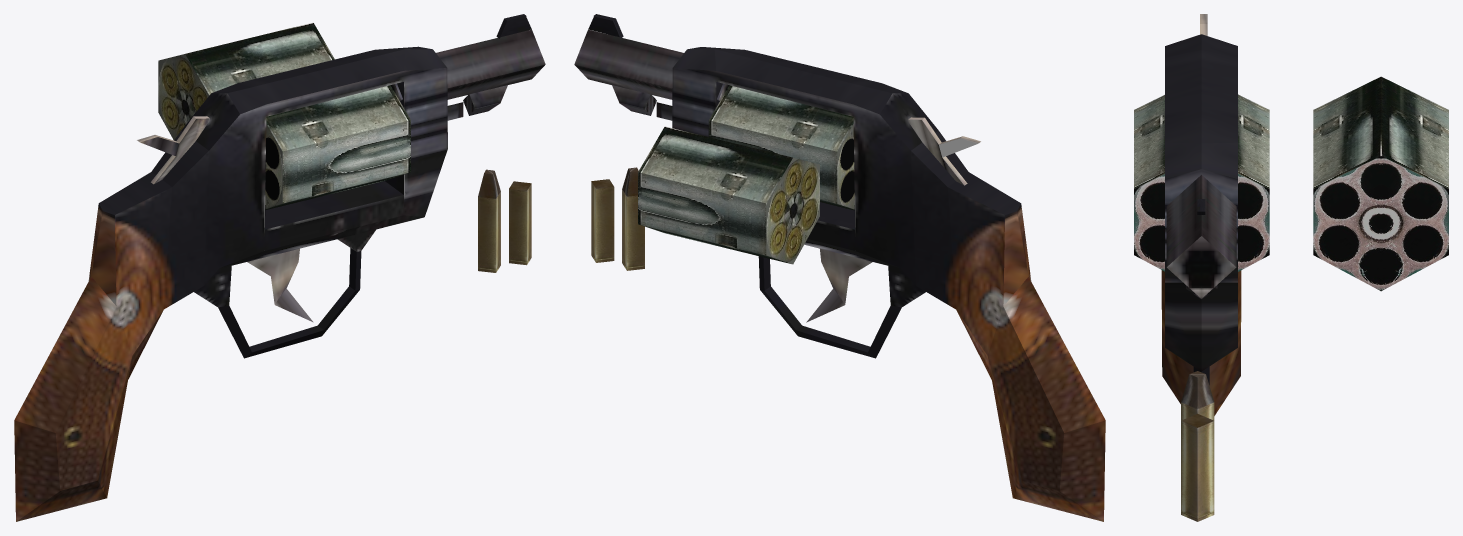
File: SnubNose38SpecialRevolver.fbx
The picture shows the model from 3 angles, left to right: view 1: azimuth 30°, elevation 25°; view 2: azimuth 150°, elevation 25°; view 3: azimuth 270°, elevation 25°; orthographic projection. The views are drawn at different scales.
Parts seen in each view (by area): view 1: SnubNoseBody, SnubNoseCylinder, SnubNoseCylinderFull, SnubNoseTrigger&Hammer, 38SpecialBullet, 38SpecialShell; view 2: SnubNoseBody, SnubNoseCylinderFull, SnubNoseCylinder, SnubNoseTrigger&Hammer, 38SpecialShell, 38SpecialBullet; view 3: SnubNoseBody, SnubNoseCylinderFull, SnubNoseCylinder, 38SpecialShell, 38SpecialBullet.
Part boxes in pixels (x1,y1,x2,y2): SnubNoseBody: [14, 14, 545, 521]; SnubNoseCylinder: [265, 85, 410, 209]; SnubNoseCylinderFull: [158, 22, 334, 139]; SnubNoseTrigger&Hammer: [137, 116, 313, 322]; 38SpecialBullet: [478, 169, 500, 272]; 38SpecialShell: [509, 181, 531, 265]; SnubNoseBody: [574, 14, 1105, 521]; SnubNoseCylinderFull: [638, 126, 819, 264]; SnubNoseCylinder: [708, 85, 854, 210]; SnubNoseTrigger&Hammer: [806, 117, 980, 322]; 38SpecialShell: [591, 179, 614, 262]; 38SpecialBullet: [622, 167, 644, 270]; SnubNoseBody: [1161, 34, 1241, 415]; SnubNoseCylinderFull: [1313, 76, 1448, 291]; SnubNoseCylinder: [1134, 94, 1269, 271]; 38SpecialShell: [1181, 413, 1214, 521]; 38SpecialBullet: [1181, 371, 1214, 420].
Bounding box in the file's own units: 192 × 136 × 79.78.
